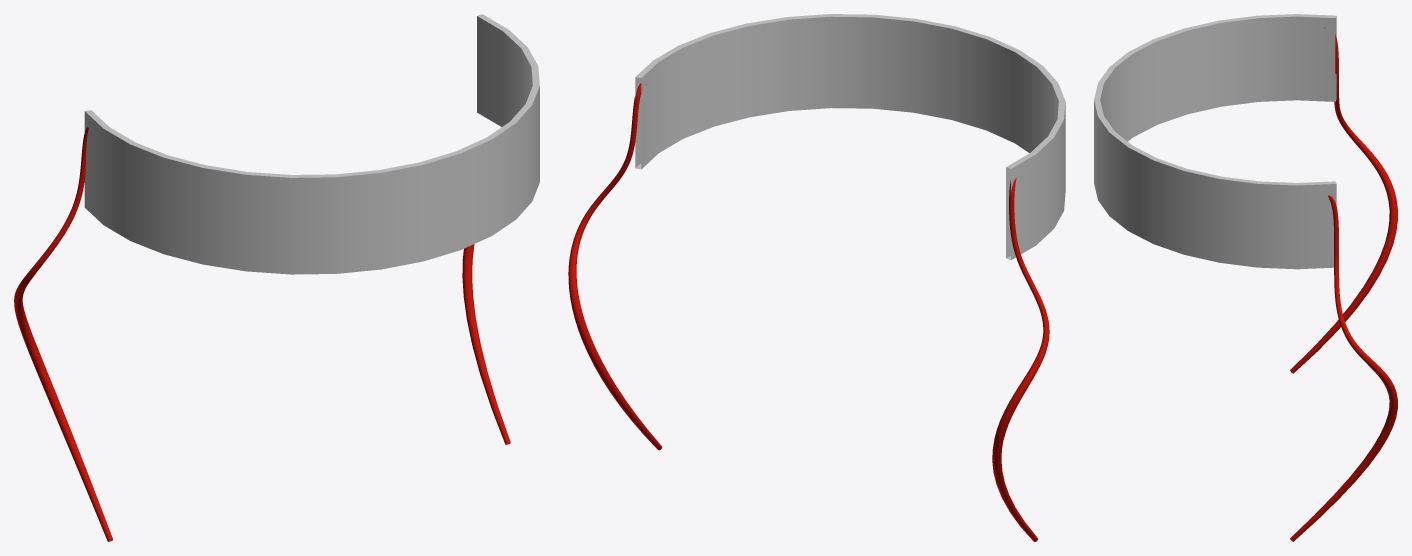
The picture shows the model from 3 angles, left to right: view 1: azimuth 30°, elevation 25°; view 2: azimuth 150°, elevation 25°; view 3: azimuth 270°, elevation 25°; orthographic projection. The views are drawn at different scales.
Visible parts, largest first — view 1: Circle, NurbsPath; view 2: Circle, NurbsPath; view 3: Circle, NurbsPath.
Part boxes in pixels (left/top/right/bottom): Circle: left=84, top=14, right=539, bottom=274; NurbsPath: left=14, top=127, right=510, bottom=541; Circle: left=635, top=14, right=1065, bottom=259; NurbsPath: left=568, top=83, right=1049, bottom=541; Circle: left=1094, top=14, right=1336, bottom=269; NurbsPath: left=1290, top=27, right=1397, bottom=541.
Size of the model in its own units: 2.19 by 1.73 by 1.33.
